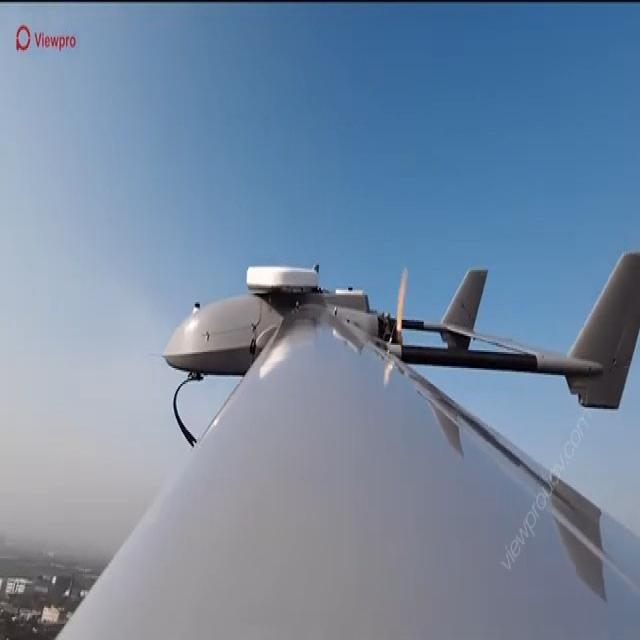drones: (139, 235, 640, 588)
